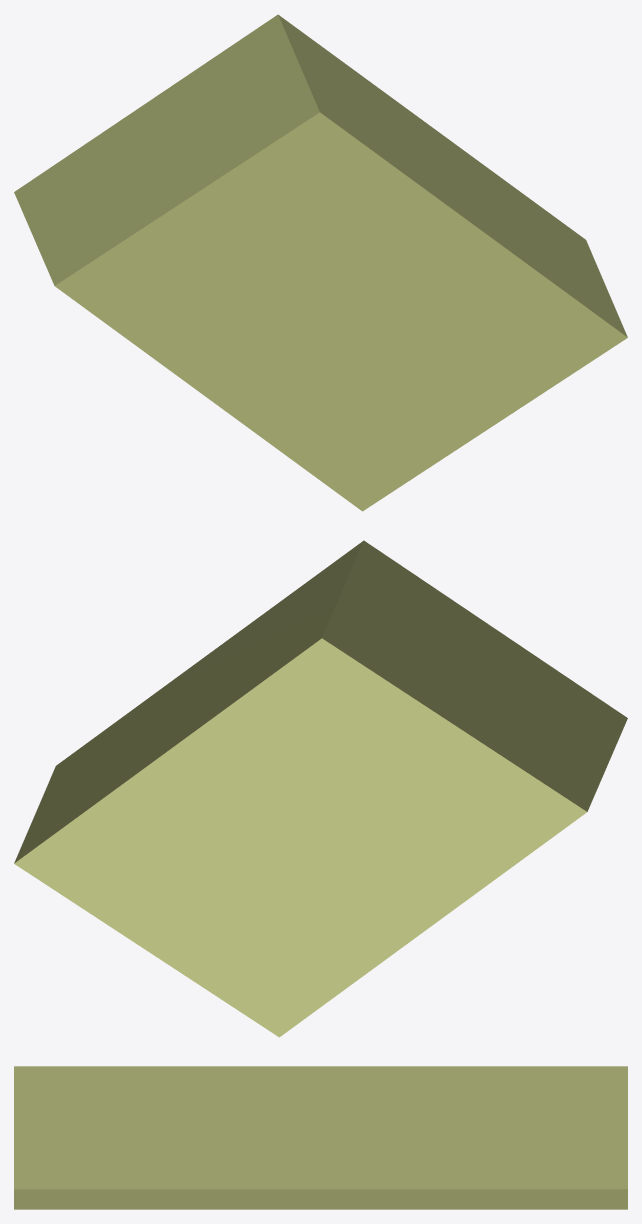
The picture shows the model from 3 angles, top to bottom: view 1: azimuth 30°, elevation 25°; view 2: azimuth 150°, elevation 25°; view 3: azimuth 270°, elevation 25°; orthographic projection.
Parts seen in each view (by area): view 1: 0_1_1_3_2_2_0_3_2_2_3_1; view 2: 0_1_1_3_2_2_0_3_2_2_3_1; view 3: 0_1_1_3_2_2_0_3_2_2_3_1.
Boxes of the visible parts, bbox=[...] form: 0_1_1_3_2_2_0_3_2_2_3_1: bbox=[14, 14, 627, 511]; 0_1_1_3_2_2_0_3_2_2_3_1: bbox=[14, 540, 627, 1037]; 0_1_1_3_2_2_0_3_2_2_3_1: bbox=[14, 1066, 627, 1209].
Size of the model in its own units: 3.44 by 2.33 by 6.
